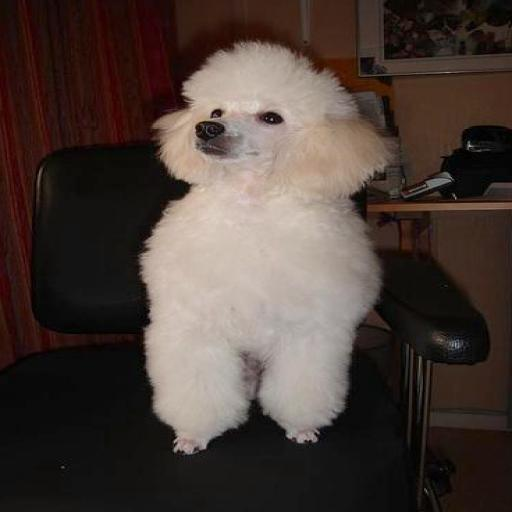dog_face: (151, 43, 390, 186)
